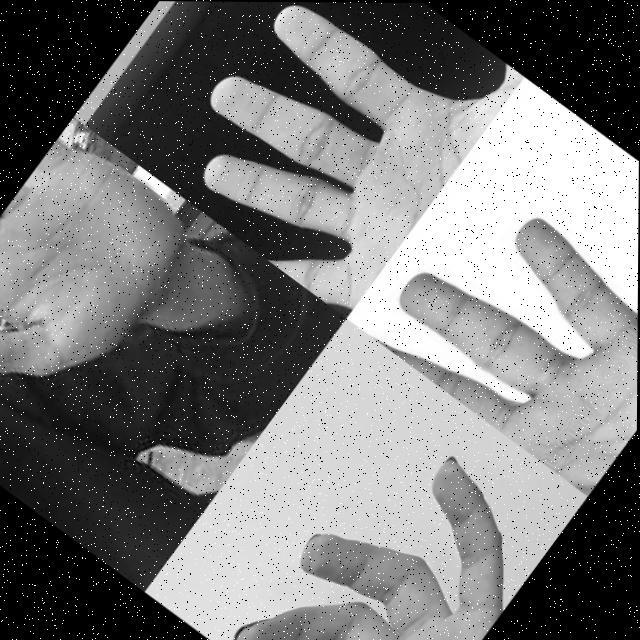no-gloves: (143, 1, 523, 318), (345, 156, 639, 495), (222, 410, 560, 640), (0, 123, 208, 460)
